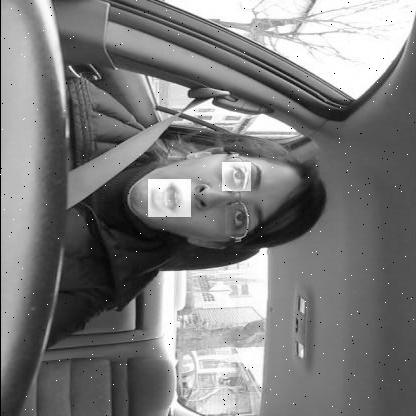seatbelt: (0, 114, 333, 271)
